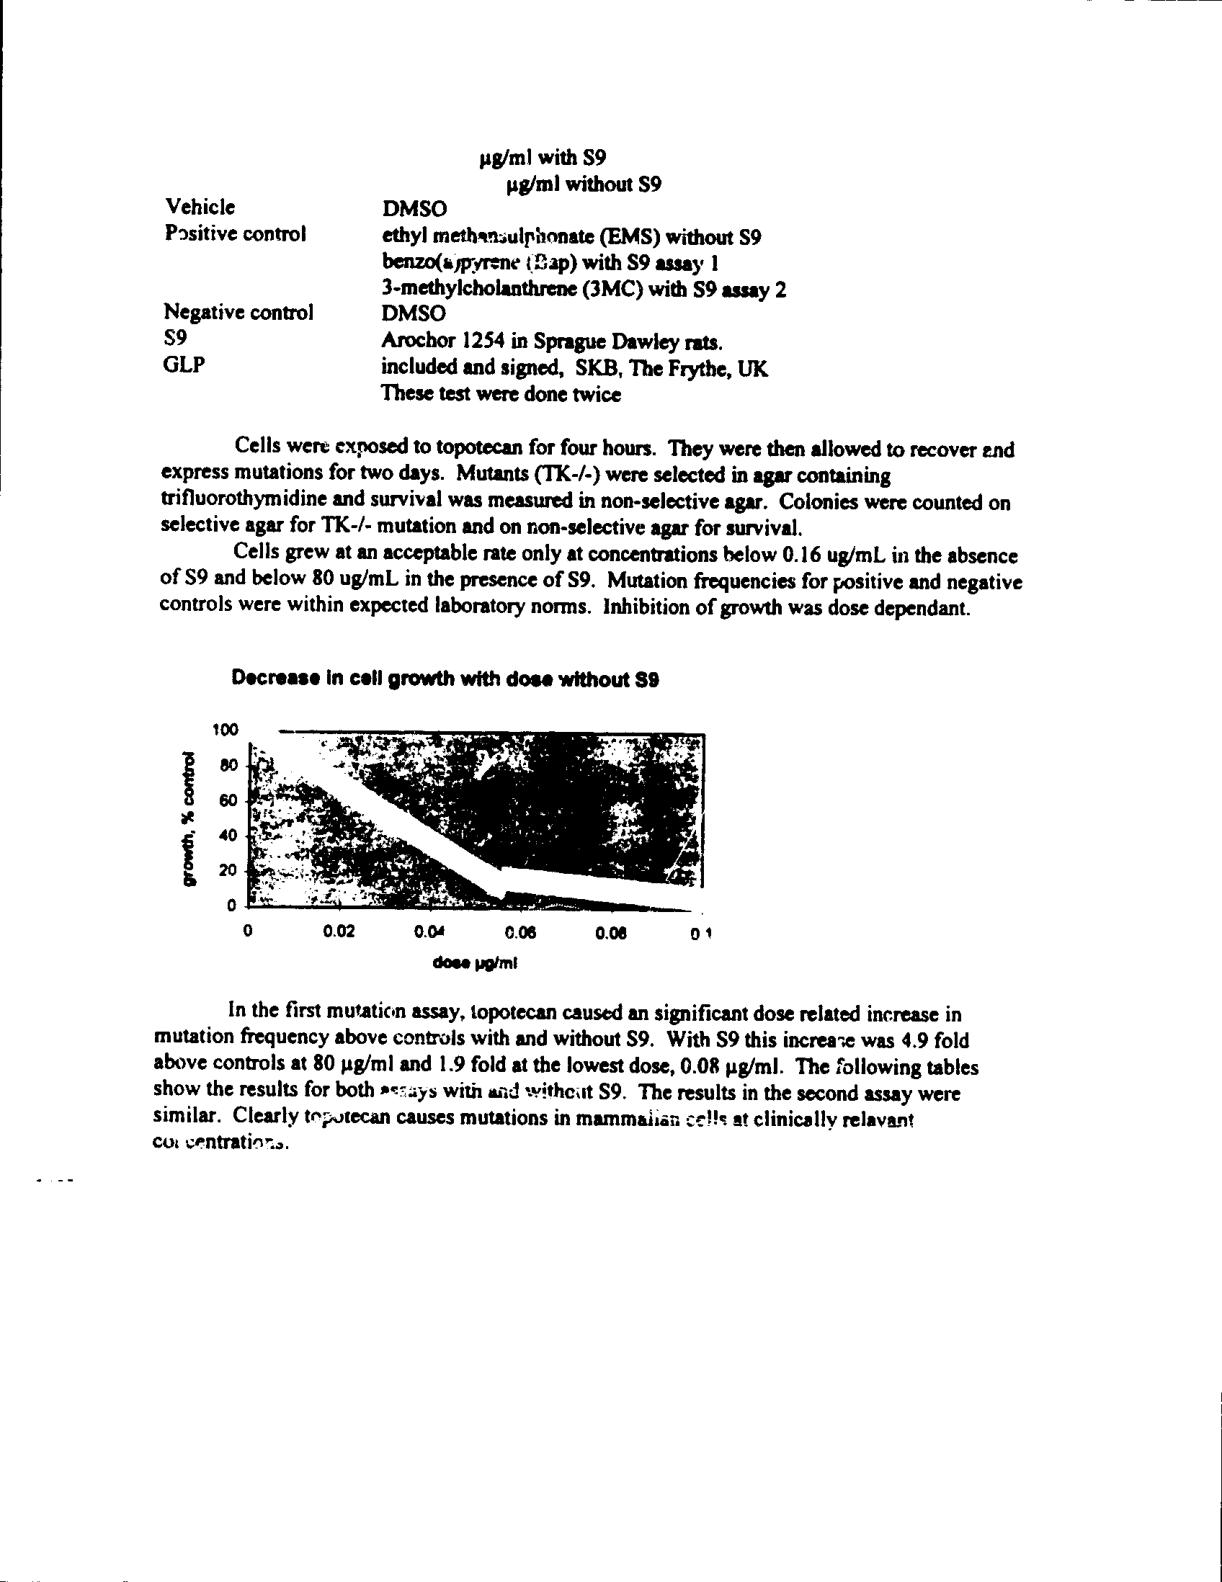nolines: (155, 142, 792, 405)
